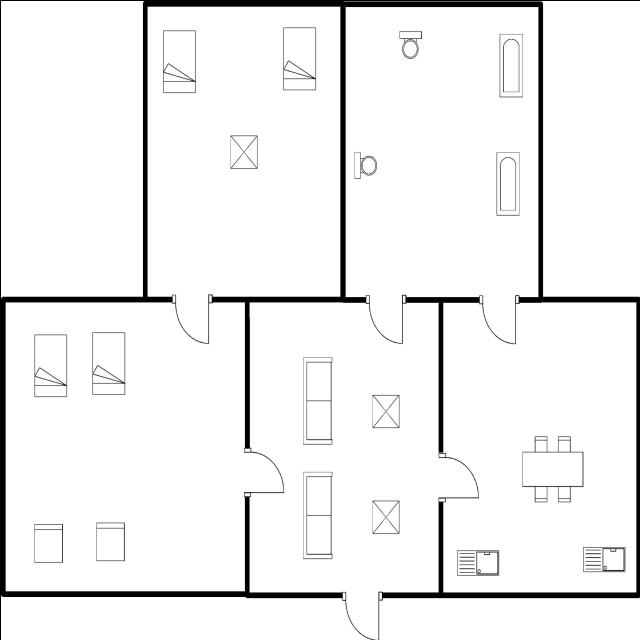bed: (88, 326, 128, 401), (159, 22, 199, 96), (279, 24, 319, 94), (31, 329, 68, 401)
coffee_table: (367, 388, 403, 432), (227, 128, 260, 174), (369, 494, 402, 538)
dining_table: (518, 430, 588, 508)
large_sink: (350, 146, 380, 183), (395, 28, 425, 62)
large_sofa: (299, 466, 336, 564), (298, 351, 334, 449)
sink: (578, 540, 629, 576), (453, 544, 503, 580)
small_sofa: (29, 516, 68, 566), (92, 516, 128, 564)
tub: (496, 28, 526, 102), (493, 146, 522, 222)
